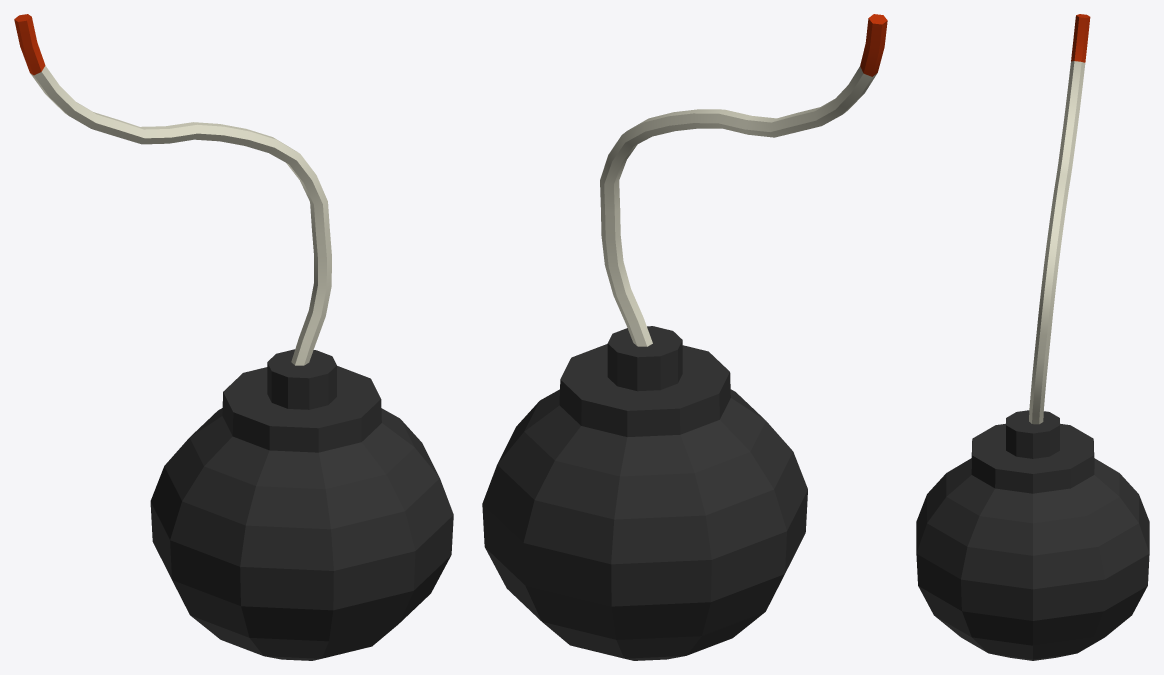
The model's file is bombPickup.fbx.
3 views of the same model, side by side, from view 1: azimuth 30°, elevation 25°; view 2: azimuth 150°, elevation 25°; view 3: azimuth 270°, elevation 25° (orthographic). The views are drawn at different scales.
Parts seen in each view (by area): view 1: pSphere1, pCylinder7; view 2: pSphere1, pCylinder7; view 3: pSphere1, pCylinder7.
Boxes of the visible parts, bbox=[...] form: pSphere1: bbox=[150, 349, 453, 660]; pCylinder7: bbox=[14, 14, 331, 365]; pSphere1: bbox=[482, 326, 807, 660]; pCylinder7: bbox=[600, 14, 887, 346]; pSphere1: bbox=[916, 410, 1149, 660]; pCylinder7: bbox=[1029, 14, 1090, 424].
Bounding box in the file's own units: 3.3 × 5.46 × 2.14.
